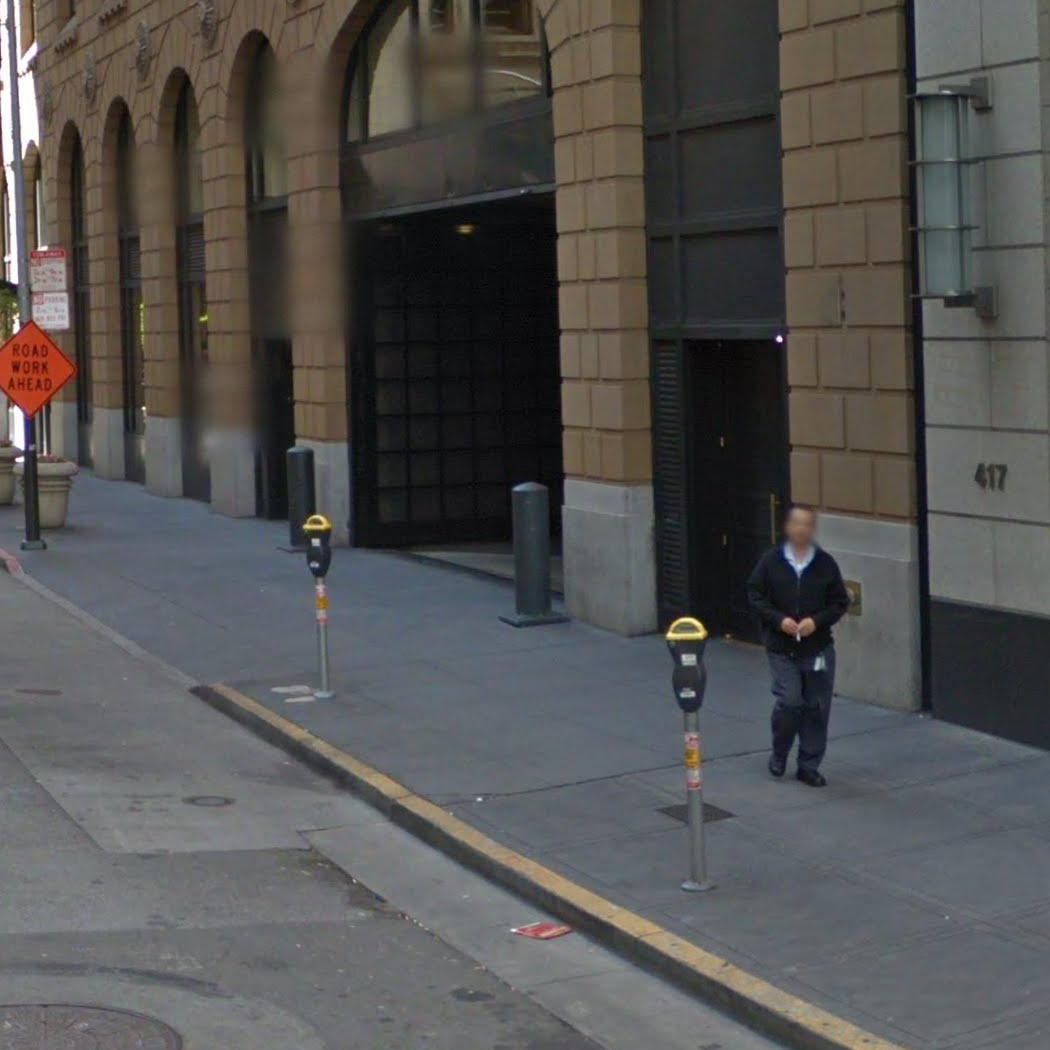No Parking: (28, 288, 71, 332)
